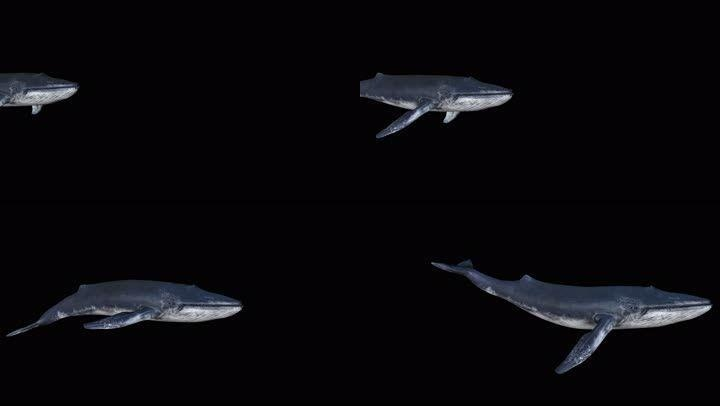fish: (425, 258, 712, 378), (8, 267, 241, 344), (345, 66, 517, 143)
